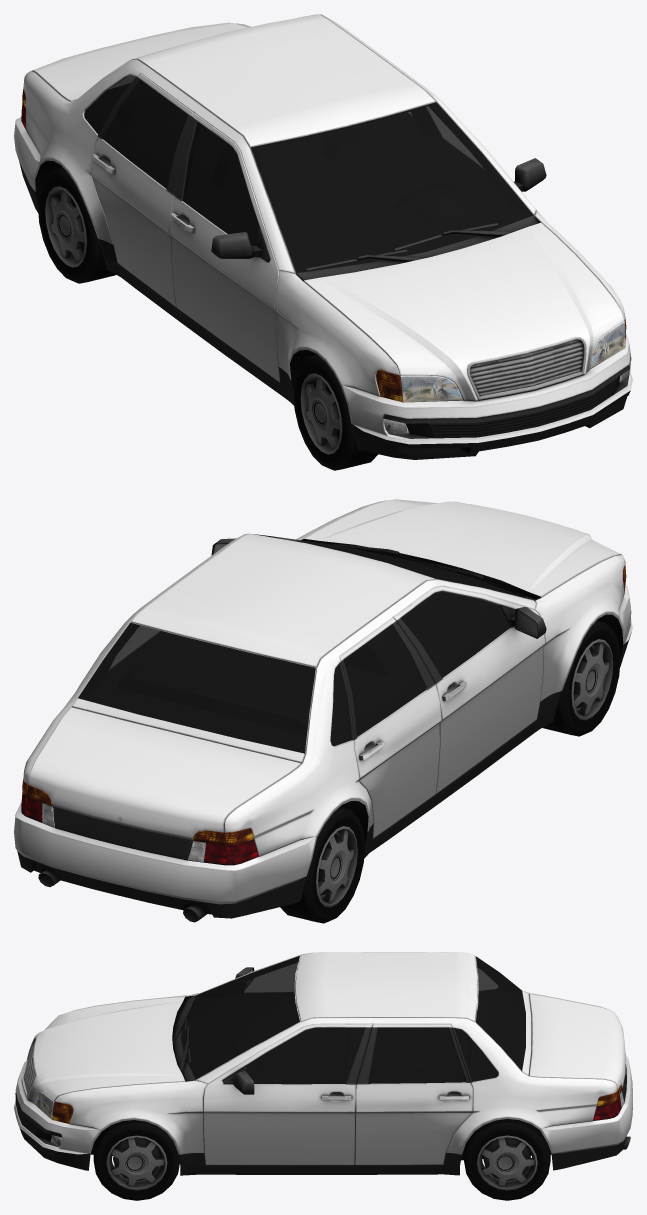
Rendered from Sedan.FBX.
3 views of the same model, one above another, from view 1: azimuth 30°, elevation 25°; view 2: azimuth 150°, elevation 25°; view 3: azimuth 270°, elevation 25° (orthographic). The views are drawn at different scales.
Parts seen in each view (by area): view 1: Sedan Body, Wheel_A002, Wheel_A003; view 2: Sedan Body, Wheel_A003, Wheel_A002; view 3: Sedan Body, Wheel_A001, Wheel_A.
Part boxes in pixels (x1,y1,x2,y2): Sedan Body: (14, 14, 632, 459); Wheel_A002: (293, 354, 377, 470); Wheel_A003: (38, 167, 115, 283); Sedan Body: (14, 499, 632, 922); Wheel_A003: (280, 807, 364, 923); Wheel_A002: (543, 620, 620, 736); Sedan Body: (14, 952, 632, 1175); Wheel_A001: (464, 1119, 550, 1200); Wheel_A: (93, 1120, 179, 1200).
Bounding box in the file's own units: 2185 × 1510 × 4905.
Materials: 4 (3 with a texture image).
